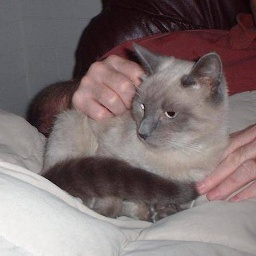cat: (41, 39, 225, 218)
